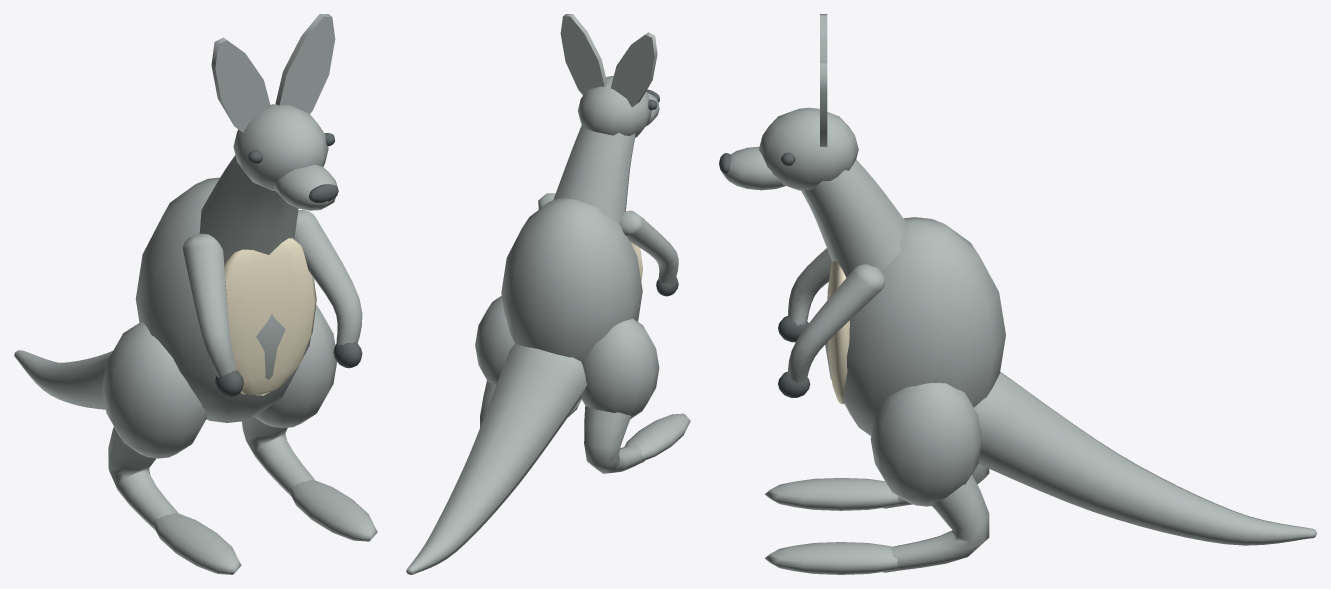
File: outback-and-australian-wildlife-wallaby-ea8cff22__5905.glb
3 views of the same model, side by side, from view 1: azimuth 30°, elevation 25°; view 2: azimuth 150°, elevation 25°; view 3: azimuth 270°, elevation 25° (orthographic). The views are drawn at different scales.
Visible parts, largest first — view 1: wallaby; view 2: wallaby; view 3: wallaby.
Boxes of the visible parts, x1,y1,x2,y2 form: wallaby: [14, 14, 377, 574]; wallaby: [406, 14, 690, 574]; wallaby: [719, 14, 1316, 574].
Size of the model in its own units: 0.5139 by 1.17 by 1.26.
